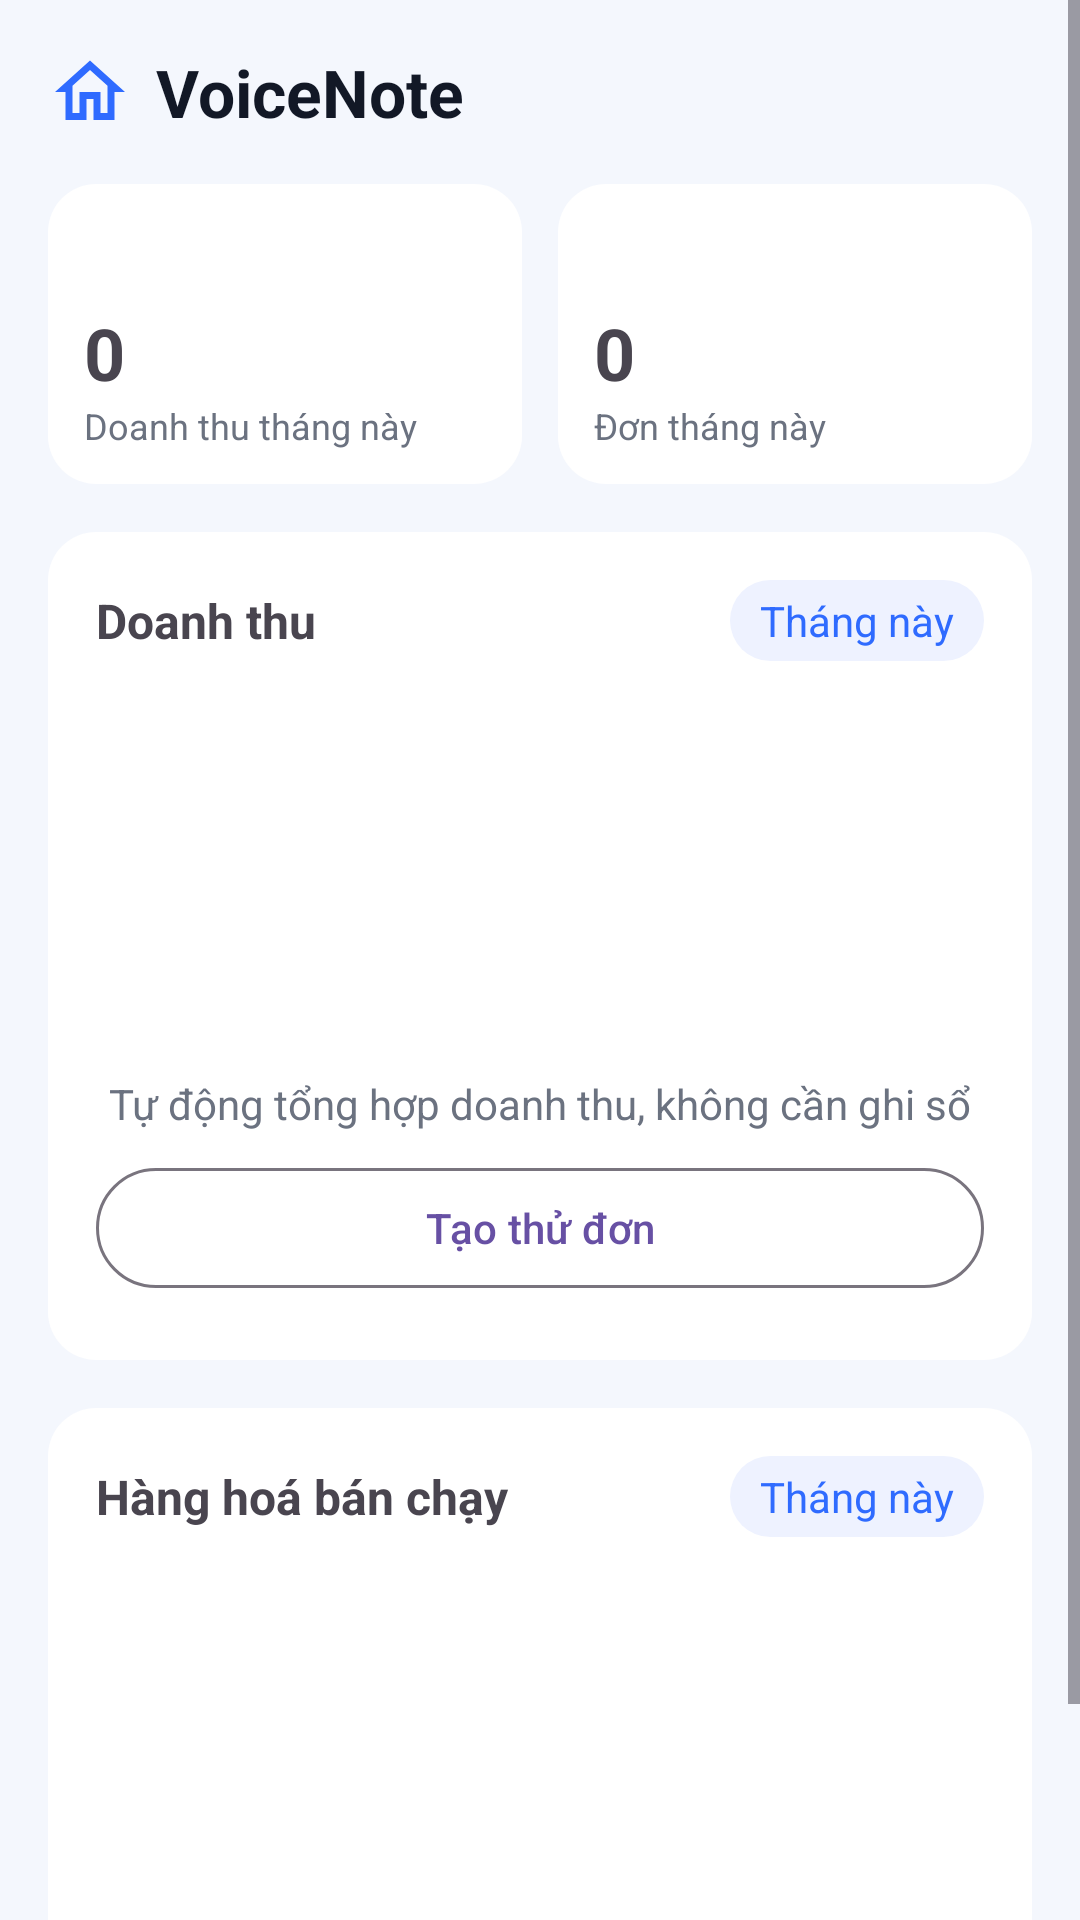

Locate icon controls on the screen. Image size 1080 x 1920, boxes as [left=x1, top=y1, right=x2, bottom=y2].
home: [left=55, top=60, right=125, bottom=120]
